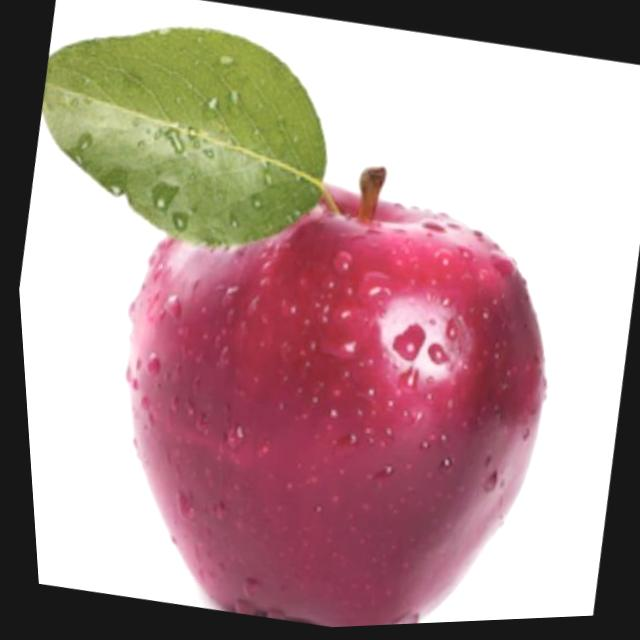Apple: (0, 0, 615, 640)
